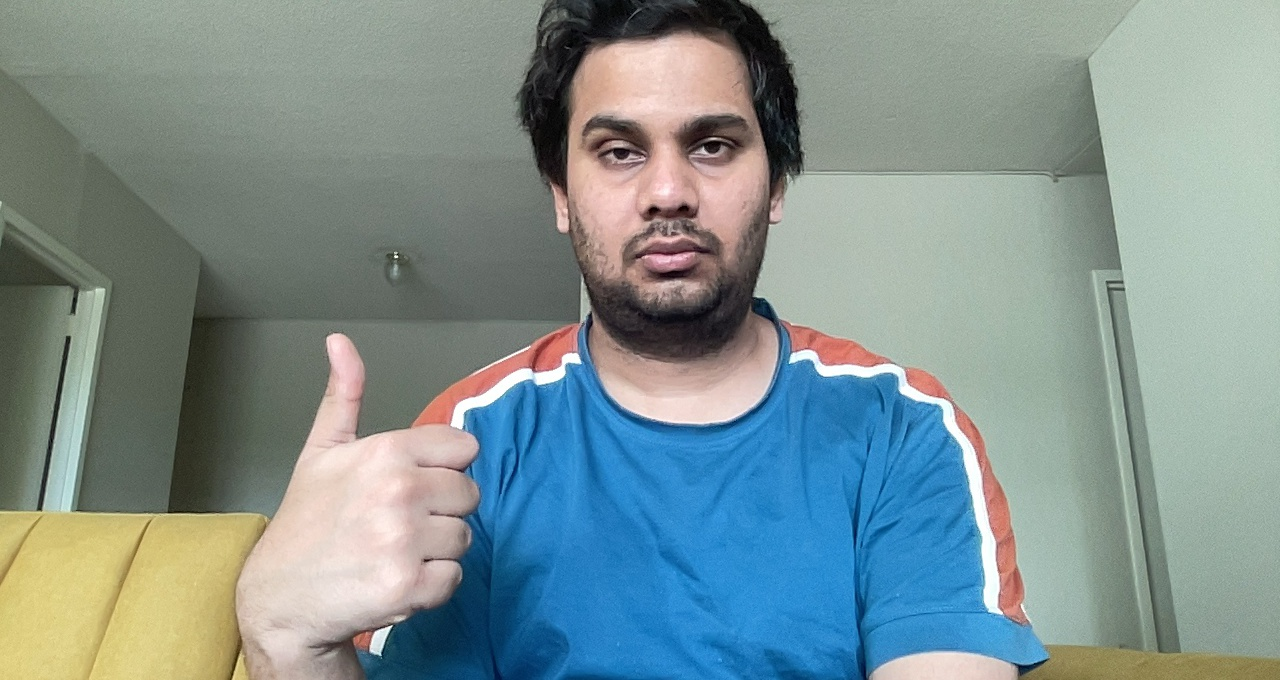thumbsup: (263, 324, 485, 610)
